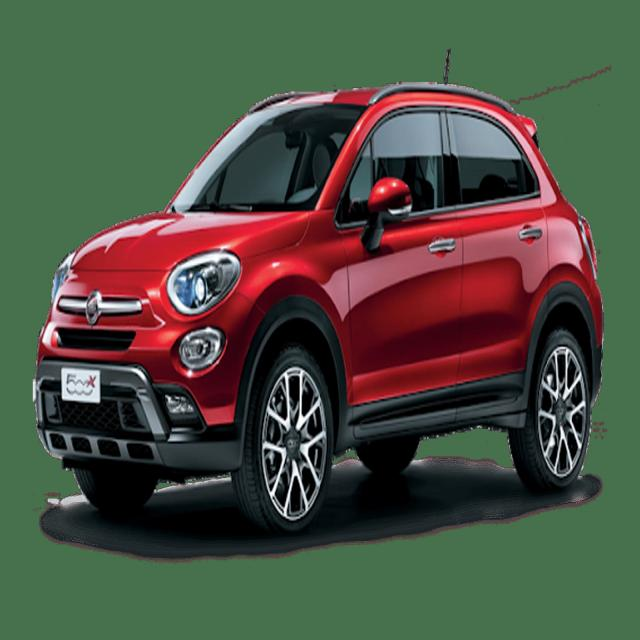yolov7-seg-car: (35, 43, 604, 535)
